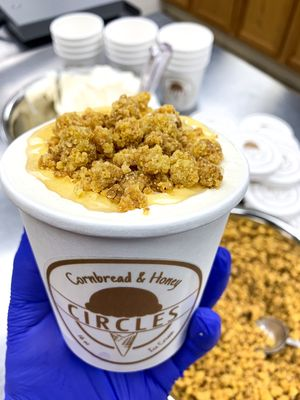pizza: (157, 21, 214, 113)
